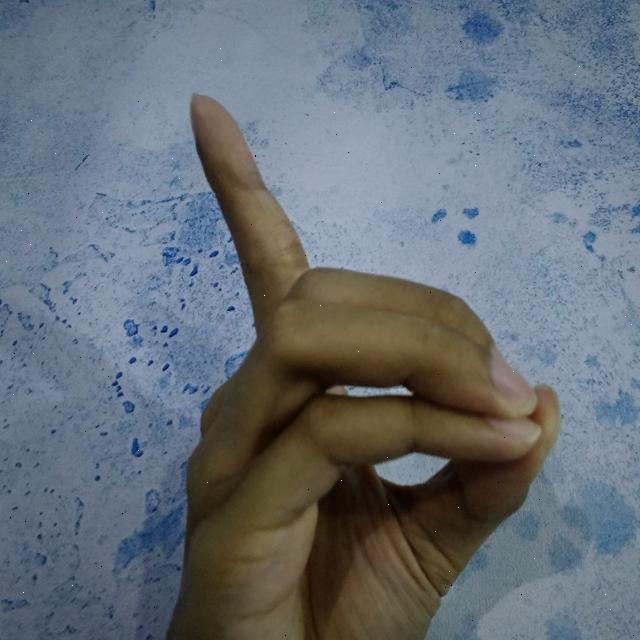D: (185, 90, 561, 640)
